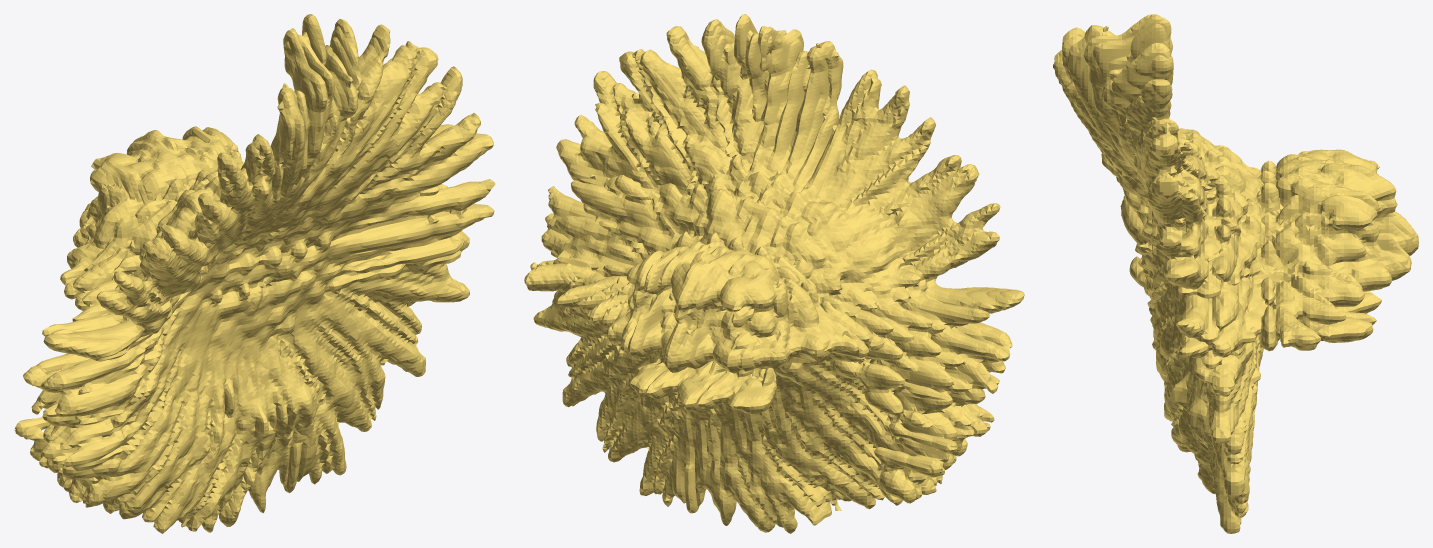
Rendered from raw.glb.
The picture shows the model from 3 angles, left to right: view 1: azimuth 30°, elevation 25°; view 2: azimuth 150°, elevation 25°; view 3: azimuth 270°, elevation 25°; orthographic projection. The views are drawn at different scales.
Visible parts, largest first — view 1: world; view 2: world; view 3: world.
Part boxes in pixels (x1,y1,x2,y2): world: (14,14,495,533); world: (524,14,1024,533); world: (1053,14,1418,533).
Size of the model in its own units: 0.6 by 0.6195 by 0.4081.
